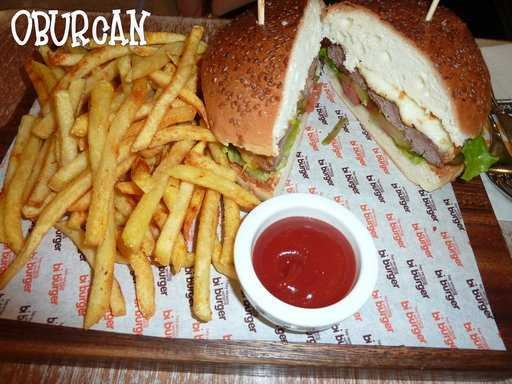hamburger: (324, 1, 501, 190), (187, 1, 327, 183)
